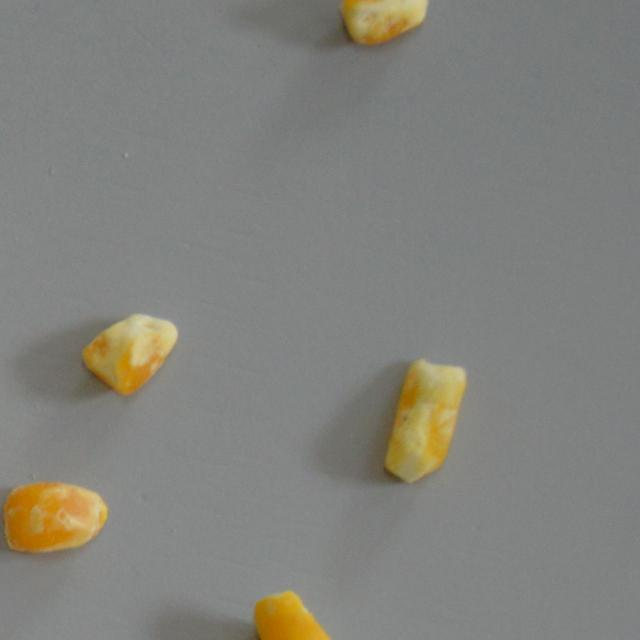dañado: (78, 306, 181, 400), (0, 475, 110, 557), (246, 583, 338, 640), (336, 0, 432, 48)
punto_negro: (378, 353, 470, 486)
